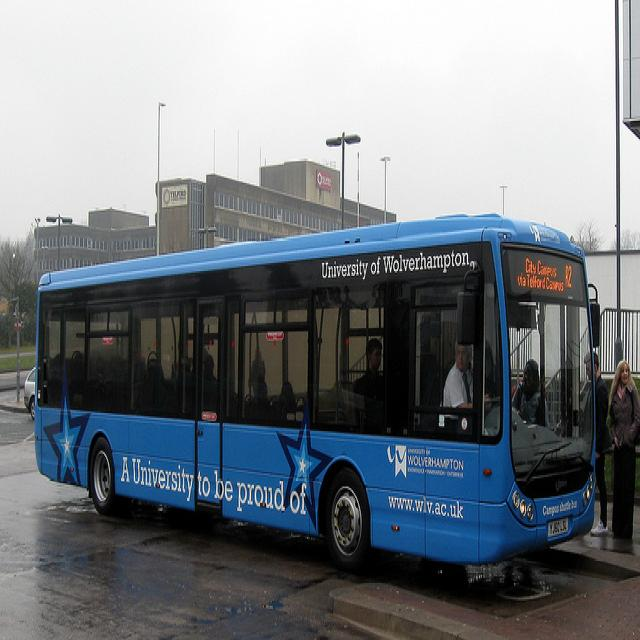Vehicle: (34, 213, 601, 568), (24, 364, 36, 422)
